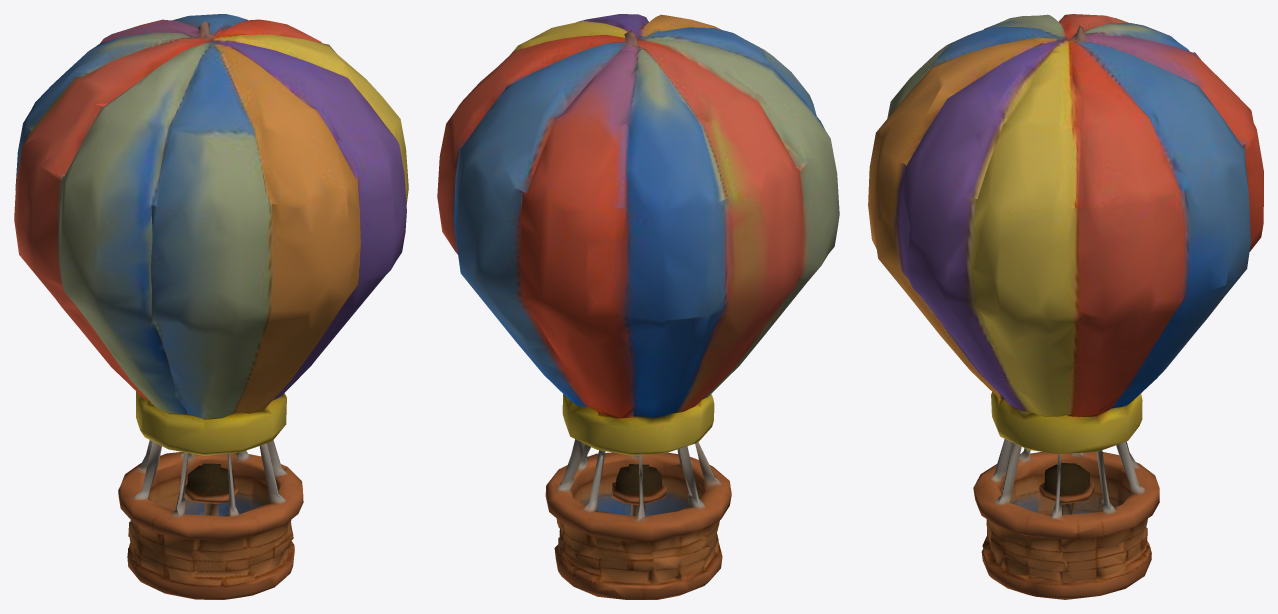
The model's file is hot-air-balloon.glb.
3 views of the same model, side by side, from view 1: azimuth 30°, elevation 25°; view 2: azimuth 150°, elevation 25°; view 3: azimuth 270°, elevation 25° (orthographic).
Visible parts, largest first — view 1: tripo_node_e6052ec7-dfe6-400e-8d9c-32d52bd0dfce; view 2: tripo_node_e6052ec7-dfe6-400e-8d9c-32d52bd0dfce; view 3: tripo_node_e6052ec7-dfe6-400e-8d9c-32d52bd0dfce.
Boxes of the visible parts, x1=… form: tripo_node_e6052ec7-dfe6-400e-8d9c-32d52bd0dfce: x1=14, y1=14, x2=408, y2=599; tripo_node_e6052ec7-dfe6-400e-8d9c-32d52bd0dfce: x1=437, y1=14, x2=839, y2=599; tripo_node_e6052ec7-dfe6-400e-8d9c-32d52bd0dfce: x1=868, y1=14, x2=1263, y2=599.
Bounding box in the file's own units: 0.6596 × 1 × 0.6622.
1 material, 1 textured.
